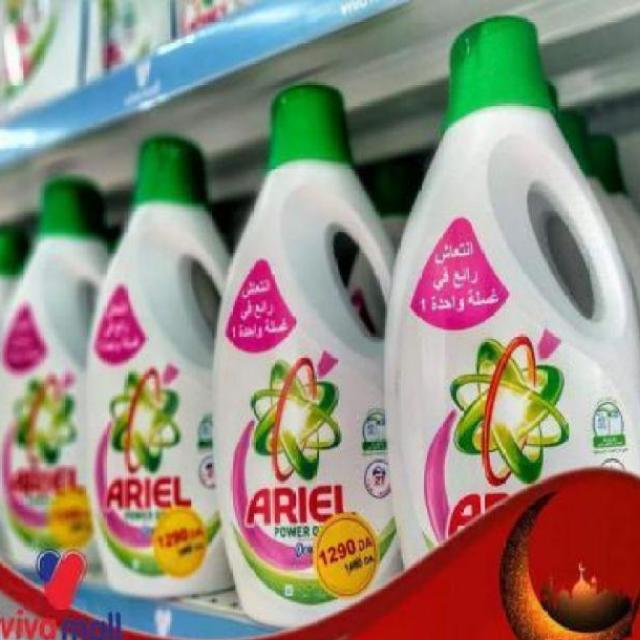Detergent: (388, 15, 640, 544), (218, 80, 383, 621), (94, 113, 241, 588)
